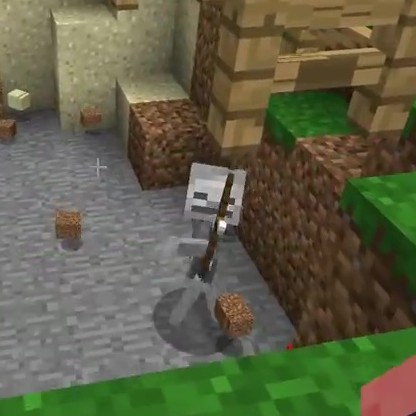skeleton: (182, 161, 246, 256)
